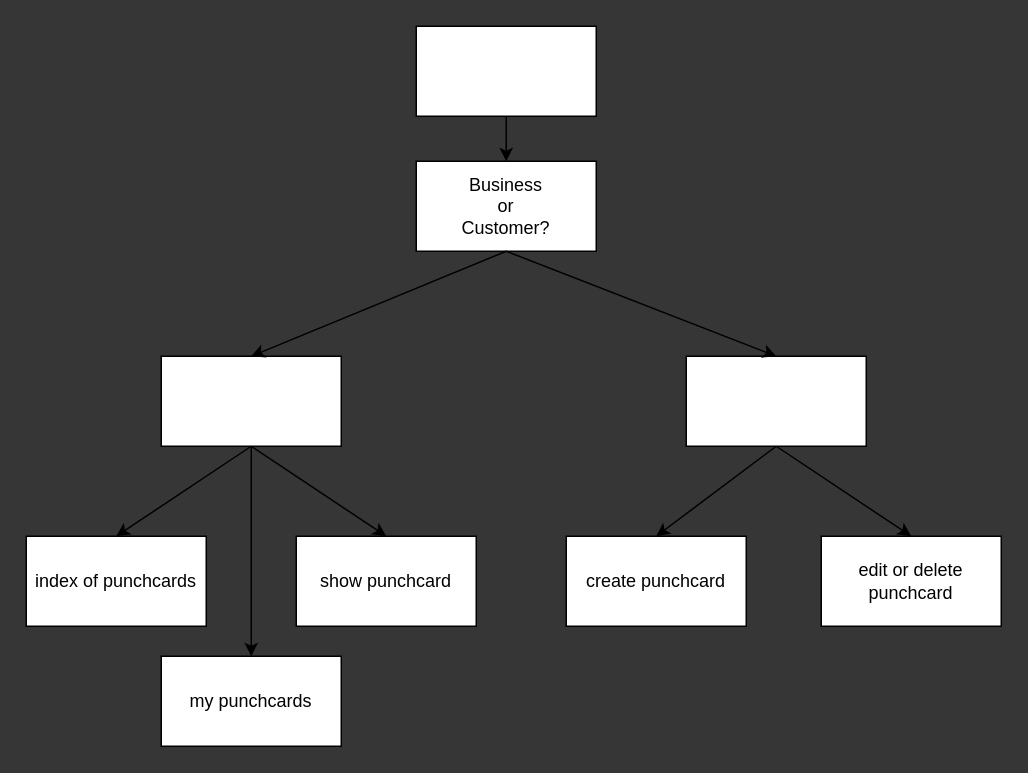
This 1028x773 diagram has some shape labels left out. Here are the shapes that lost their labels. From the top down, the centre of each, then its label:
the point at 505,70: HOME login/signup
the point at 250,400: CUSTOMER
the point at 775,400: BUSINESS
